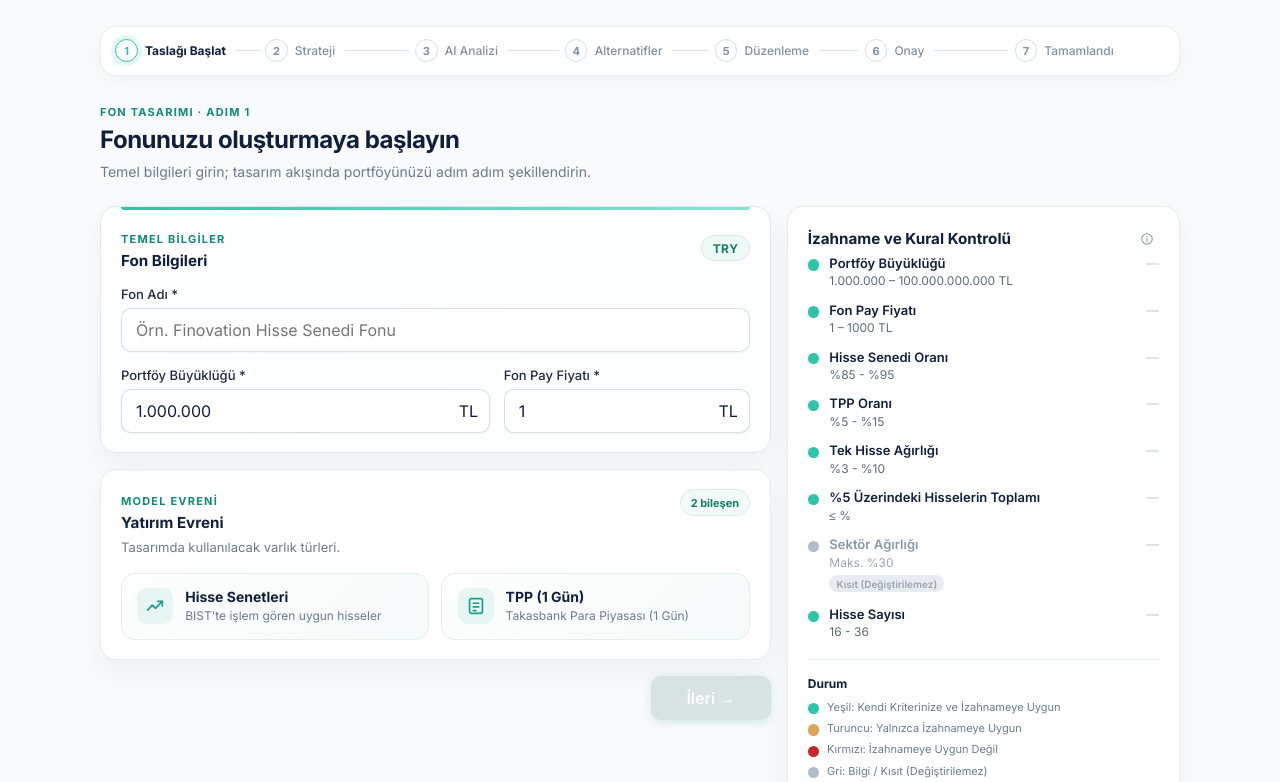
Scenario: StartFundDraftPage › FUND_006 gelince teknik metni göstermez
Expected: the text "TRY" is shown, x1=701 y1=235 x2=750 y2=261
Type "Finovation Hisse Senedi Fonu" into the field labelled "Fon Adı *" at (435, 330), box x1=121 y1=308 x2=750 y2=352
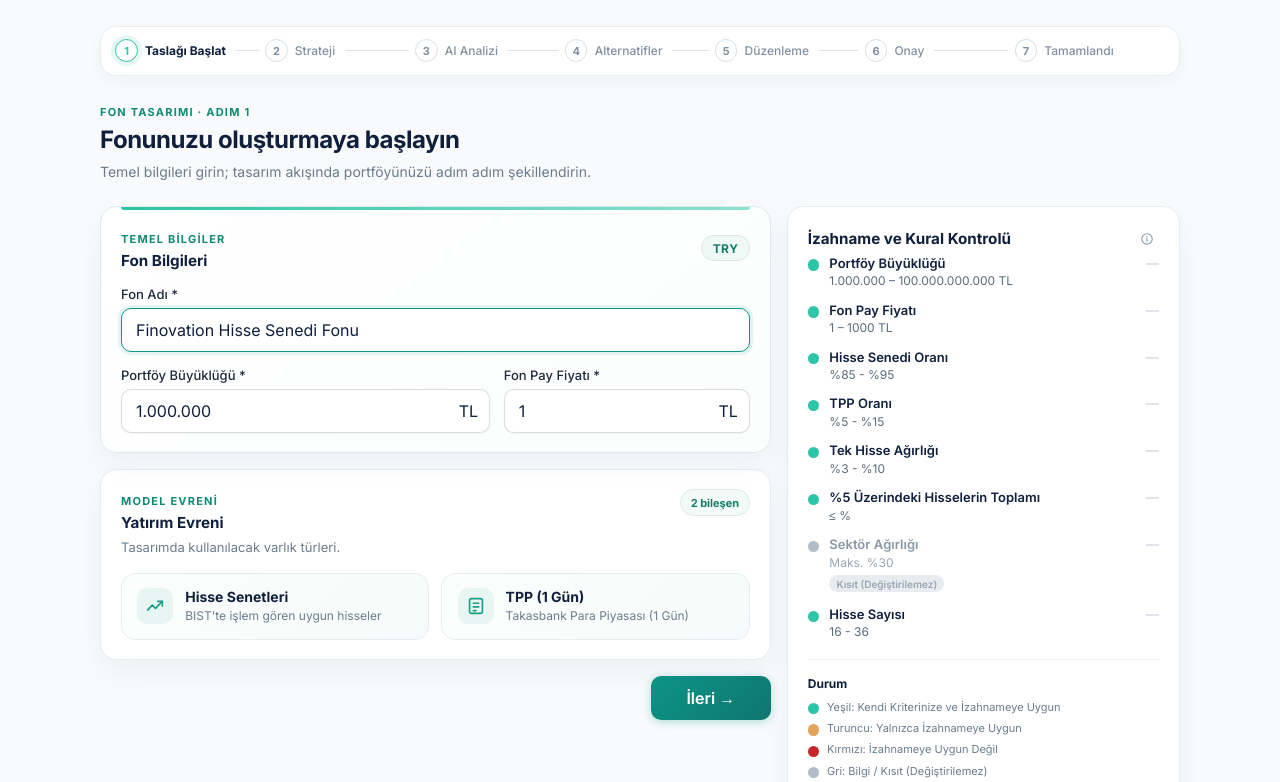
Click the button "İleri →" at (711, 698), box x1=651 y1=676 x2=771 y2=720
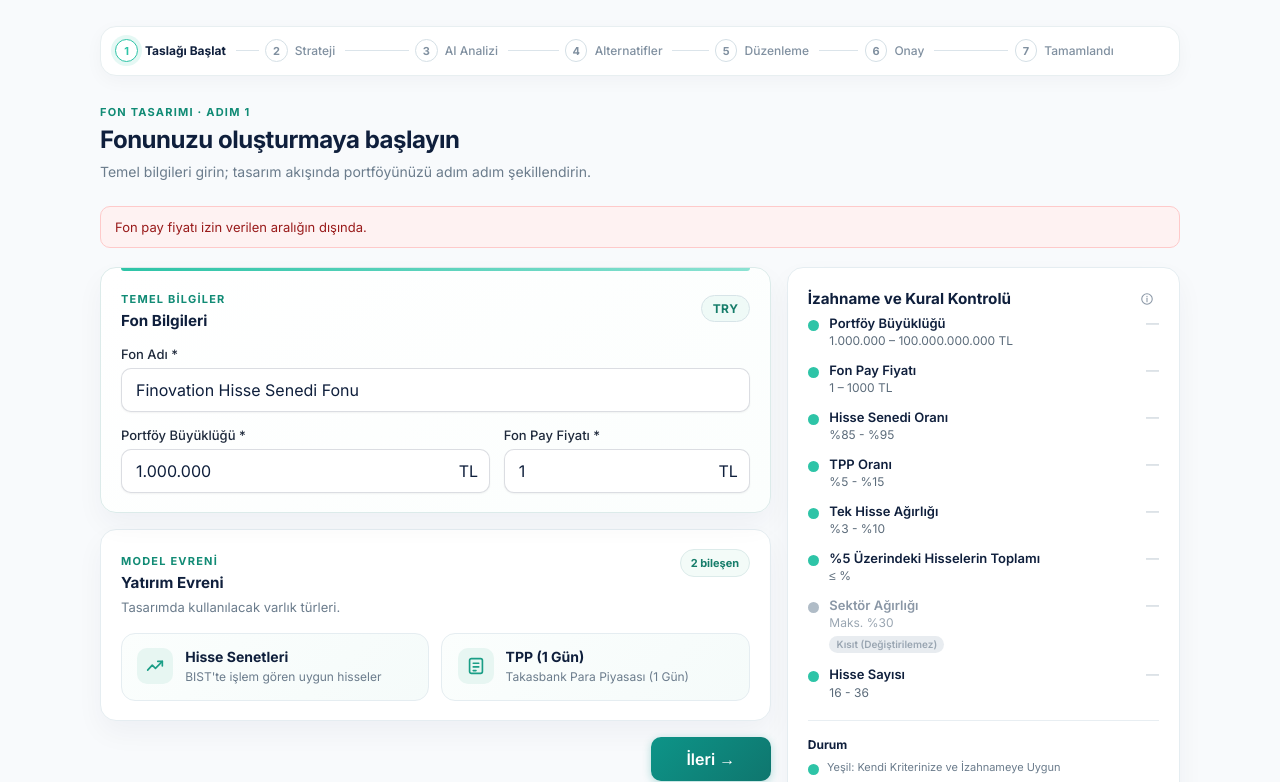
Expected: the message does not show "outside the allowed range", x1=100 y1=206 x2=1180 y2=248
Result: the message reads "Fon pay fiyatı izin verilen aralığın dışında." at x1=115 y1=219 x2=367 y2=235
